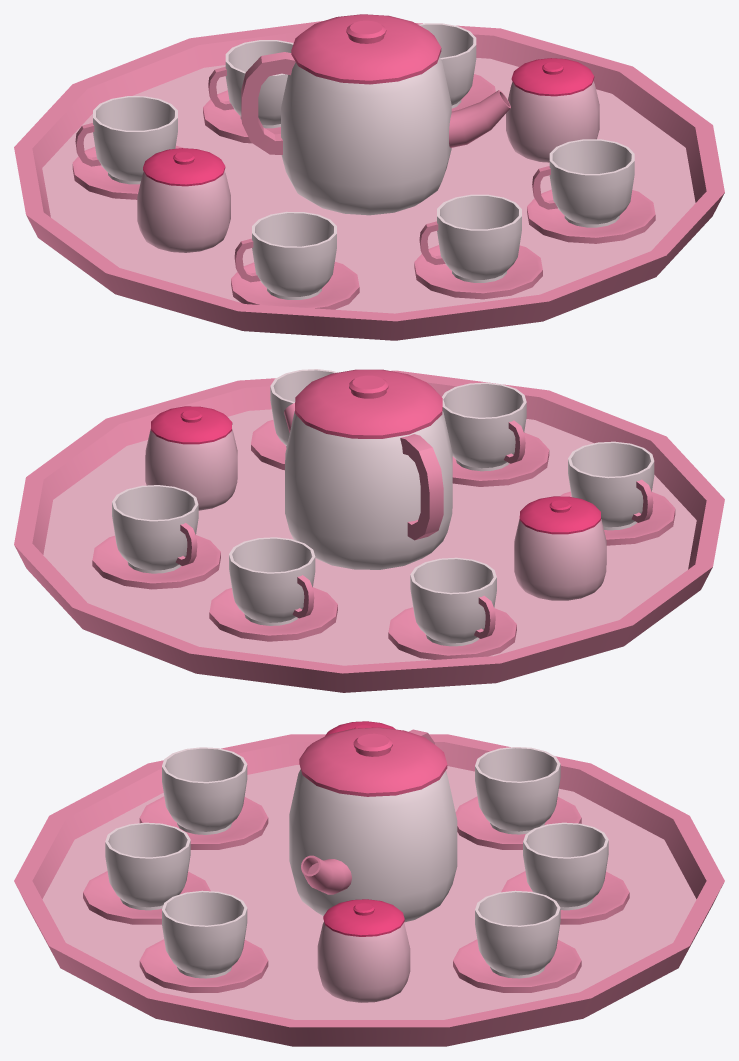
The model's file is Tray.fbx.
The picture shows the model from 3 angles, top to bottom: view 1: azimuth 30°, elevation 25°; view 2: azimuth 150°, elevation 25°; view 3: azimuth 270°, elevation 25°; orthographic projection.
Parts seen in each view (by area): view 1: Tray; view 2: Tray; view 3: Tray.
Boxes of the visible parts, box(x1,y1,x2,y2) form: Tray: box(14, 14, 724, 340); Tray: box(14, 369, 724, 692); Tray: box(14, 721, 724, 1046).
Bounding box in the file's own units: 57.29 × 14.97 × 58.76.
1 material, 1 textured.
